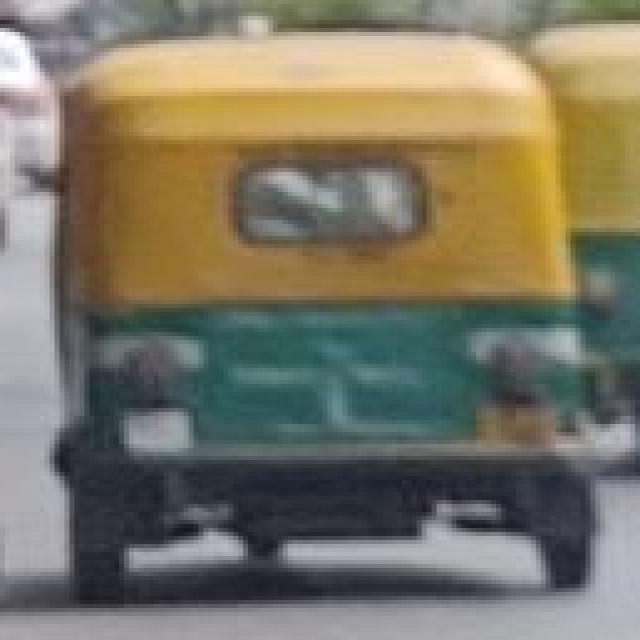autorickshaw: (40, 28, 610, 608)
